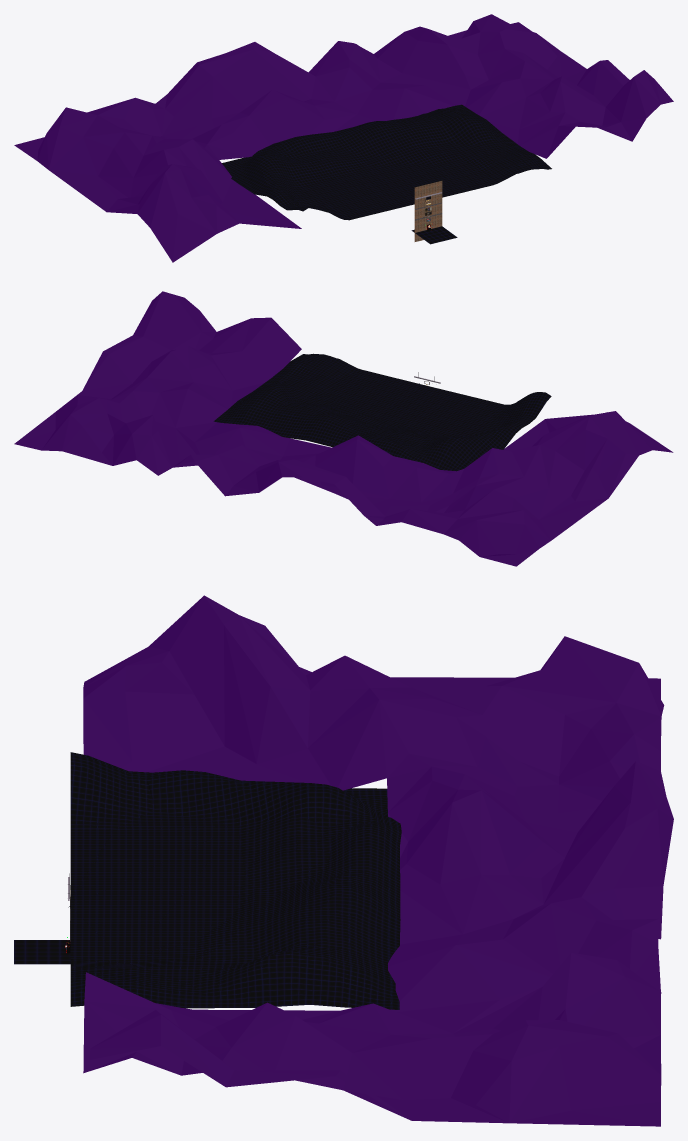
The model's file is kleczewsky_wall.glb.
The picture shows the model from 3 angles, top to bottom: view 1: azimuth 30°, elevation 25°; view 2: azimuth 150°, elevation 25°; view 3: azimuth 270°, elevation 25°; orthographic projection. The views are drawn at different scales.
Parts seen in each view (by area): view 1: Hills, Plane, Brick wall, floor; view 2: Hills, Plane; view 3: Hills, Plane, floor.
Part boxes in pixels (x1,y1,x2,y2): Hills: (14,14,673,262); Plane: (222,104,551,220); Brick wall: (414,181,442,241); floor: (411,226,457,244); Hills: (14,291,673,566); Plane: (213,353,551,471); Hills: (83,595,673,1126); Plane: (68,752,401,1009); floor: (14,940,70,964).
Bounding box in the file's own units: 678 × 121 × 421.
Materials: 38 (10 with a texture image).
